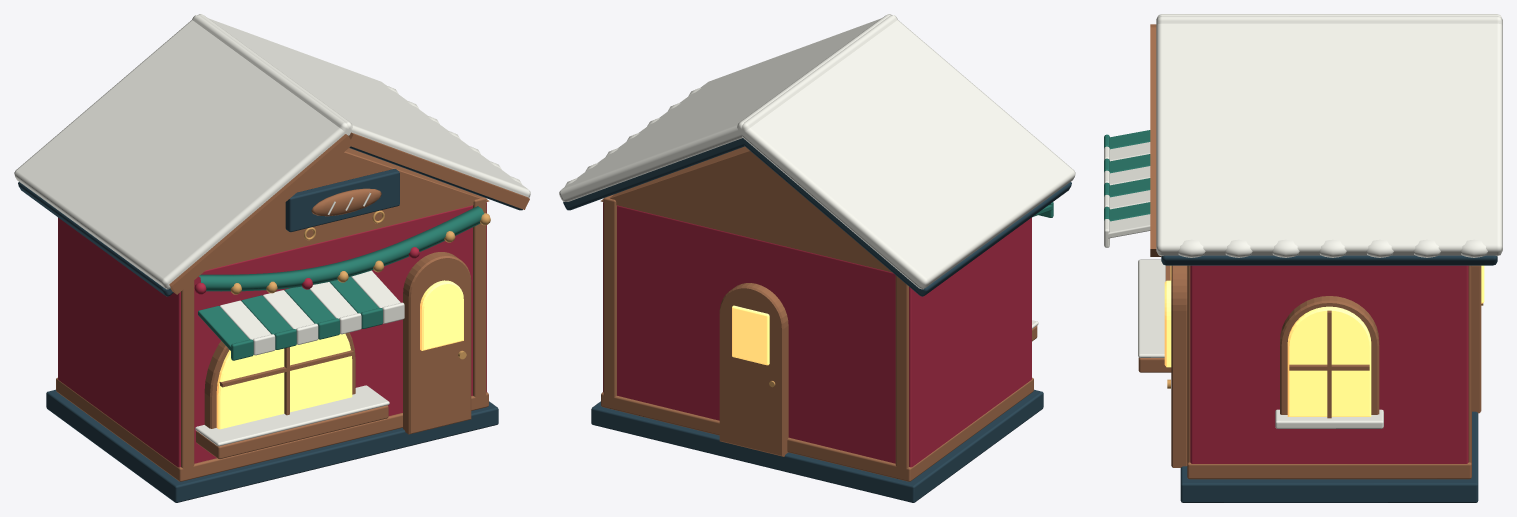
Rendered from bakery.glb.
The picture shows the model from 3 angles, left to right: view 1: azimuth 30°, elevation 25°; view 2: azimuth 150°, elevation 25°; view 3: azimuth 270°, elevation 25°; orthographic projection. The views are drawn at different scales.
Parts seen in each view (by area): view 1: village-bakery; view 2: village-bakery; view 3: village-bakery.
Part boxes in pixels (<box>): village-bakery: <box>14,14,530,502</box>; village-bakery: <box>559,14,1075,502</box>; village-bakery: <box>1104,14,1502,502</box>.
Bounding box in the file's own units: 3.8 × 3.4 × 3.08.
